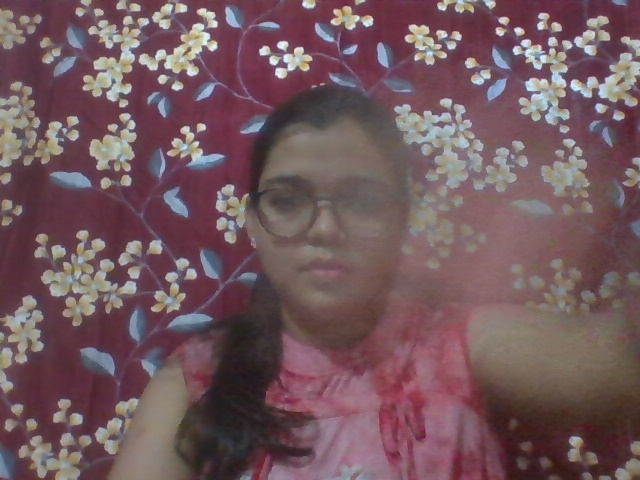Blured: (380, 160, 640, 367)
